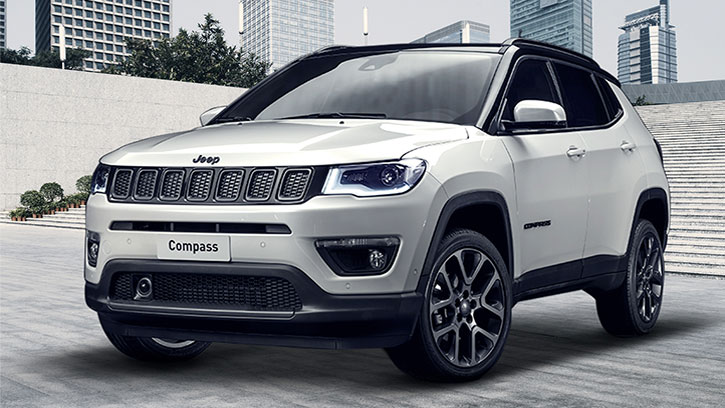car: (84, 37, 670, 383)
